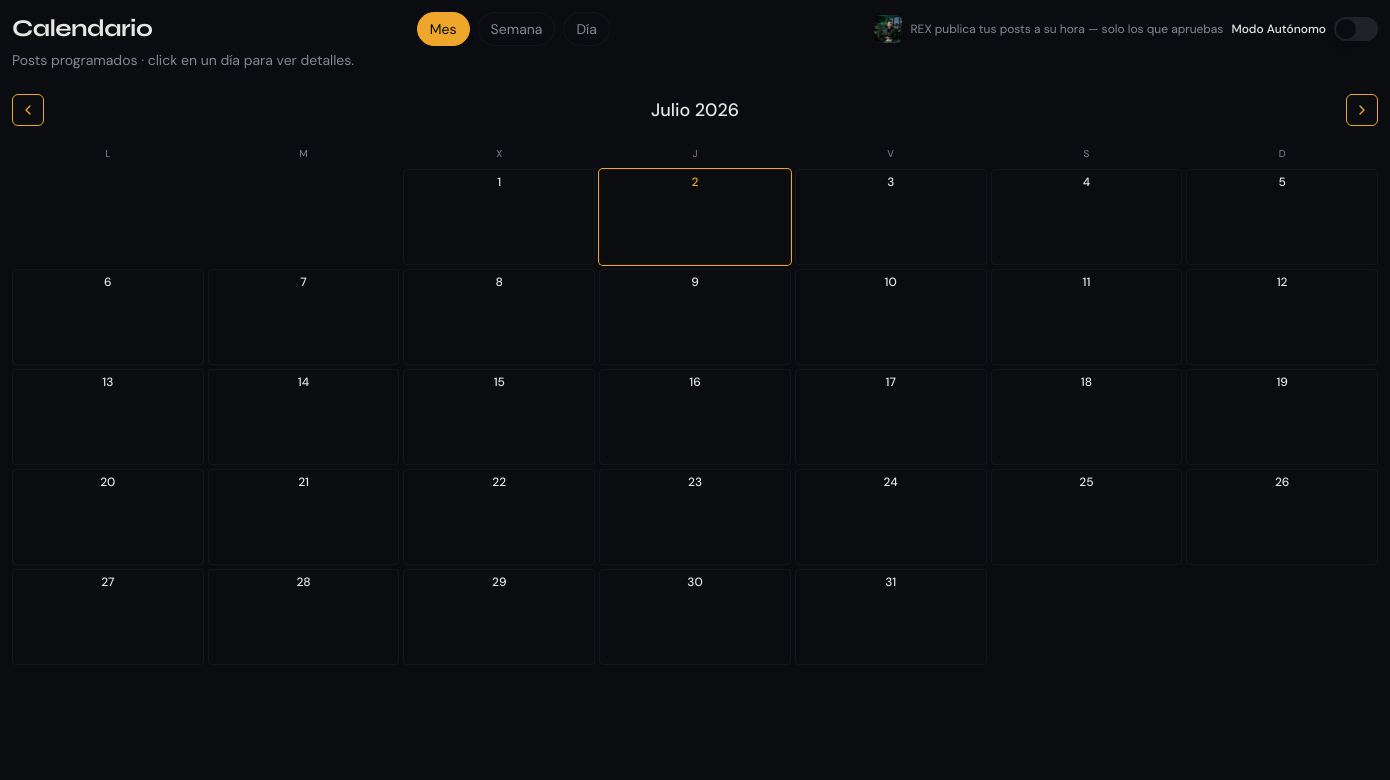
Scenario: Calendar · full-width + navegación Mes→Día (Commit 3) › test_click_dia_abre_dia · click en un día → vista Día (view='day')
Click the button "1" at [499, 217], box 403,169 -> 595,265
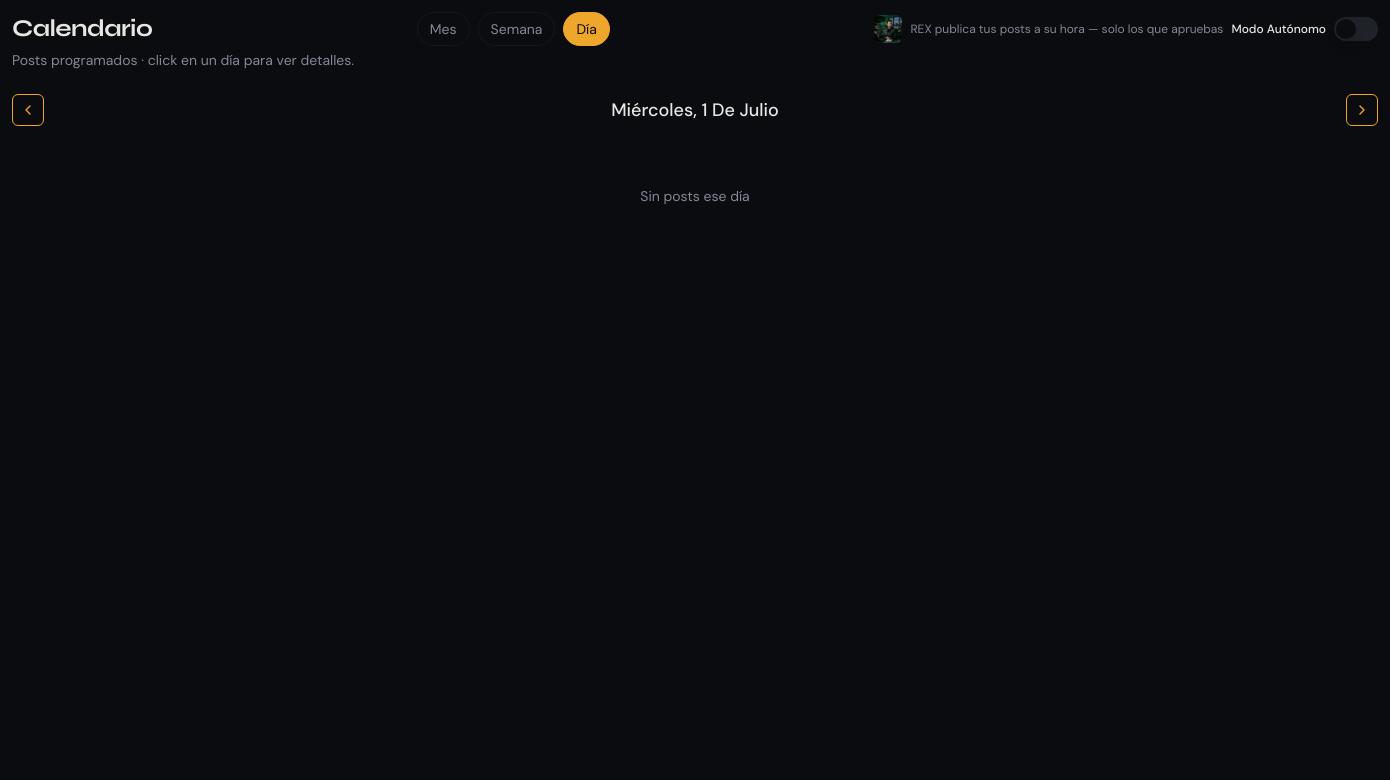
Check: the button named "Día siguiente" is shown, box 1346,94 -> 1378,126
Check: the element with class "grid-cols-7" is gone
